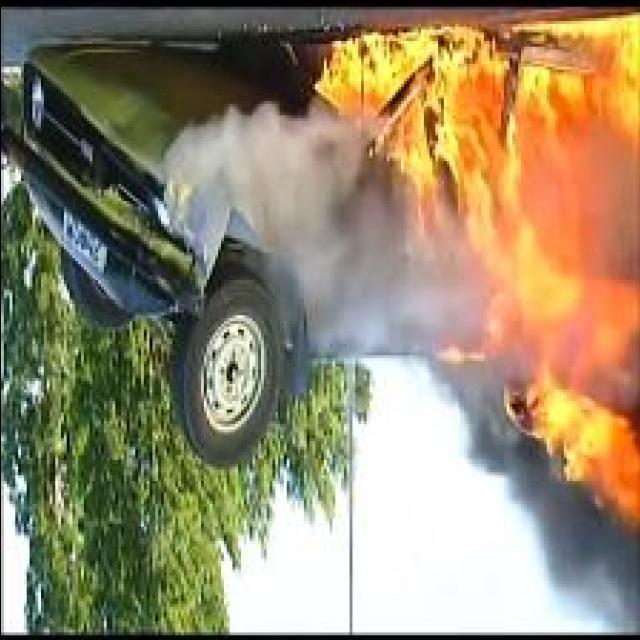Fire: (311, 11, 640, 532)
